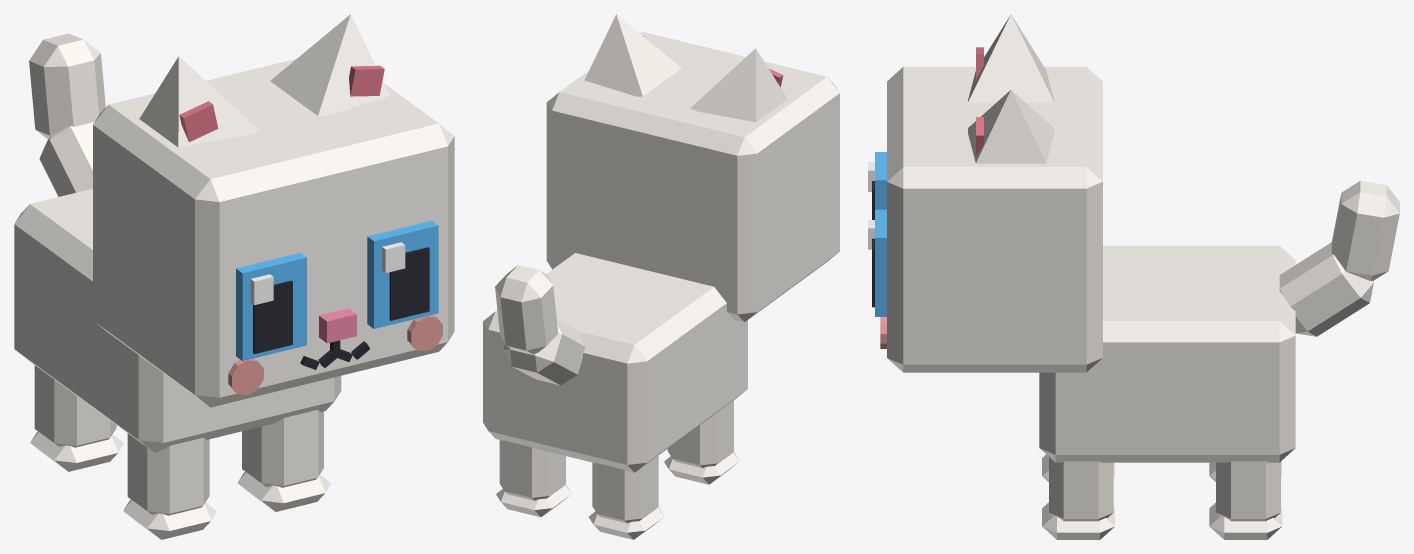
File: CleanACat_Cat_Cotton.fbx
The picture shows the model from 3 angles, left to right: view 1: azimuth 30°, elevation 25°; view 2: azimuth 150°, elevation 25°; view 3: azimuth 270°, elevation 25°; orthographic projection. The views are drawn at different scales.
Parts seen in each view (by area): view 1: CleanACat_Cat_Cotton_Head, CleanACat_Cat_Cotton_Body, CleanACat_Cat_Cotton_Tail, CleanACat_Cat_Cotton_LegF2, CleanACat_Cat_Cotton_LegF1, CleanACat_Cat_Cotton_Eye1, CleanACat_Cat_Cotton_Eye2, CleanACat_Cat_Cotton_EarL, CleanACat_Cat_Cotton_LegB2, CleanACat_Cat_Cotton_EarR; view 2: CleanACat_Cat_Cotton_Head, CleanACat_Cat_Cotton_Body, CleanACat_Cat_Cotton_Tail, CleanACat_Cat_Cotton_LegB2, CleanACat_Cat_Cotton_EarL, CleanACat_Cat_Cotton_LegB1, CleanACat_Cat_Cotton_EarR, CleanACat_Cat_Cotton_LegF2; view 3: CleanACat_Cat_Cotton_Head, CleanACat_Cat_Cotton_Body, CleanACat_Cat_Cotton_Tail, CleanACat_Cat_Cotton_LegB1, CleanACat_Cat_Cotton_LegF1, CleanACat_Cat_Cotton_EarL, CleanACat_Cat_Cotton_EarR, CleanACat_Cat_Cotton_Eye1, CleanACat_Cat_Cotton_Eye2.
Boxes of the visible parts, x1,y1,x2,y2 form: CleanACat_Cat_Cotton_Head: (93,59,454,407); CleanACat_Cat_Cotton_Body: (14,188,341,452); CleanACat_Cat_Cotton_Tail: (29,33,105,196); CleanACat_Cat_Cotton_LegF2: (123,433,216,539); CleanACat_Cat_Cotton_LegF1: (237,409,331,511); CleanACat_Cat_Cotton_Eye1: (367,220,438,328); CleanACat_Cat_Cotton_Eye2: (236,252,306,360); CleanACat_Cat_Cotton_EarL: (270,14,389,115); CleanACat_Cat_Cotton_LegB2: (30,365,123,471); CleanACat_Cat_Cotton_EarR: (139,56,259,147); CleanACat_Cat_Cotton_Head: (546,31,839,322); CleanACat_Cat_Cotton_Body: (483,253,747,472); CleanACat_Cat_Cotton_Tail: (495,265,585,385); CleanACat_Cat_Cotton_LegB2: (589,455,664,539); CleanACat_Cat_Cotton_EarL: (584,14,681,96); CleanACat_Cat_Cotton_LegB1: (496,440,571,517); CleanACat_Cat_Cotton_EarR: (690,48,787,122); CleanACat_Cat_Cotton_LegF2: (664,400,739,484); CleanACat_Cat_Cotton_Head: (880,66,1102,372); CleanACat_Cat_Cotton_Body: (1039,245,1295,462); CleanACat_Cat_Cotton_Tail: (1279,181,1399,336); CleanACat_Cat_Cotton_LegB1: (1209,461,1282,539); CleanACat_Cat_Cotton_LegF1: (1042,457,1114,539); CleanACat_Cat_Cotton_EarL: (968,90,1054,163); CleanACat_Cat_Cotton_EarR: (968,14,1054,102); CleanACat_Cat_Cotton_Eye1: (868,209,886,316); CleanACat_Cat_Cotton_Eye2: (868,152,886,219).
Bounding box in the file's own units: 1 × 1.86 × 1.97.
Materials: 1 (1 with a texture image).
